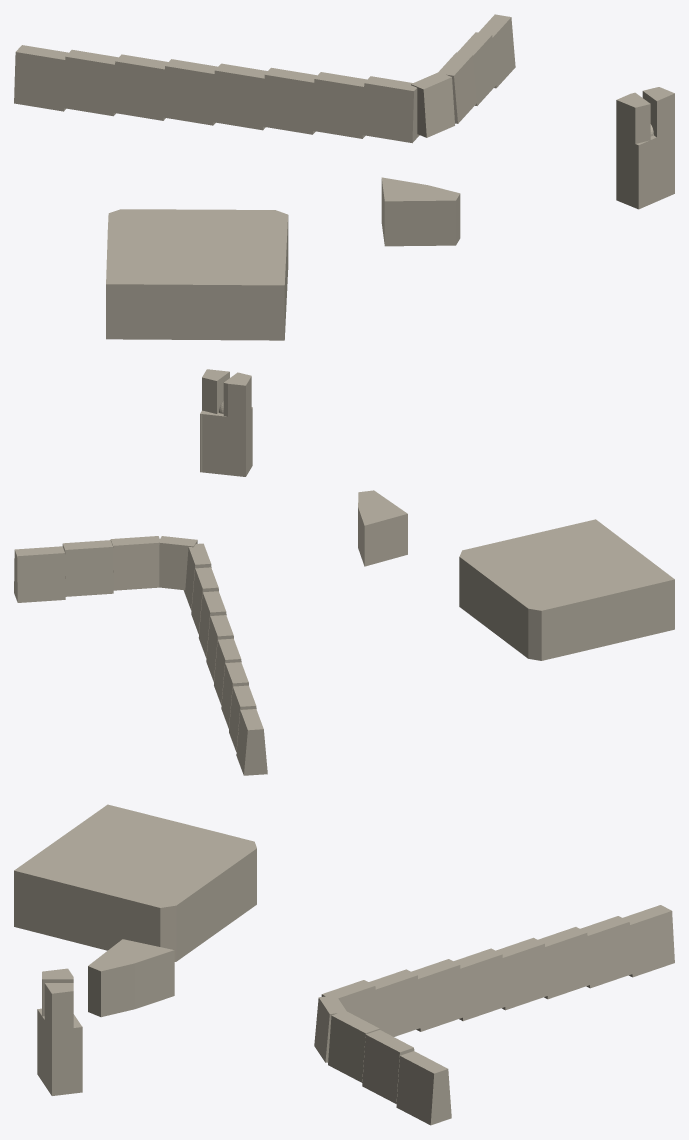
The model's file is bormla_64_28_far.glb.
The picture shows the model from 3 angles, top to bottom: view 1: azimuth 30°, elevation 25°; view 2: azimuth 150°, elevation 25°; view 3: azimuth 270°, elevation 25°; orthographic projection. The views are drawn at different scales.
Parts seen in each view (by area): view 1: geometry_0; view 2: geometry_0; view 3: geometry_0.
Boxes of the visible parts, x1=… form: geometry_0: x1=14, y1=14, x2=674, y2=340; geometry_0: x1=14, y1=369, x2=674, y2=775; geometry_0: x1=14, y1=804, x2=674, y2=1125.
Bounding box in the file's own units: 148 × 34.44 × 146.
